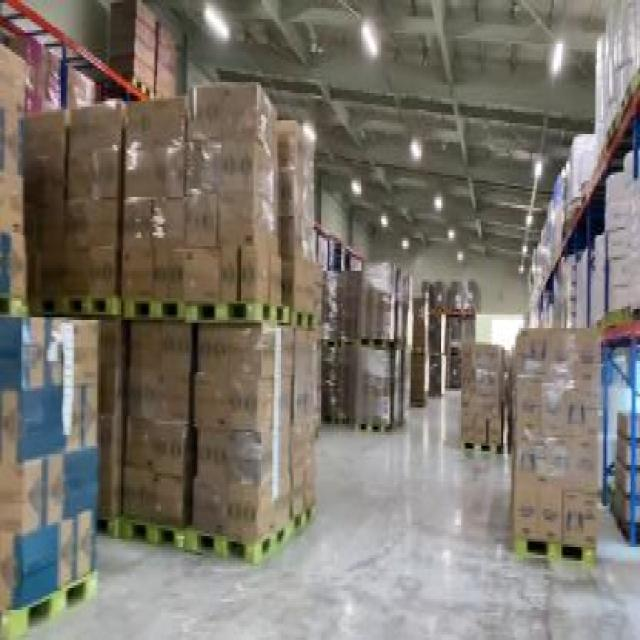box: (23, 93, 326, 558), (2, 39, 103, 626), (503, 323, 605, 569), (326, 246, 412, 435), (108, 0, 182, 115), (408, 279, 477, 397), (460, 331, 511, 457), (562, 131, 592, 211)
white_roll: (591, 3, 638, 134), (603, 153, 639, 323), (556, 246, 610, 328)
